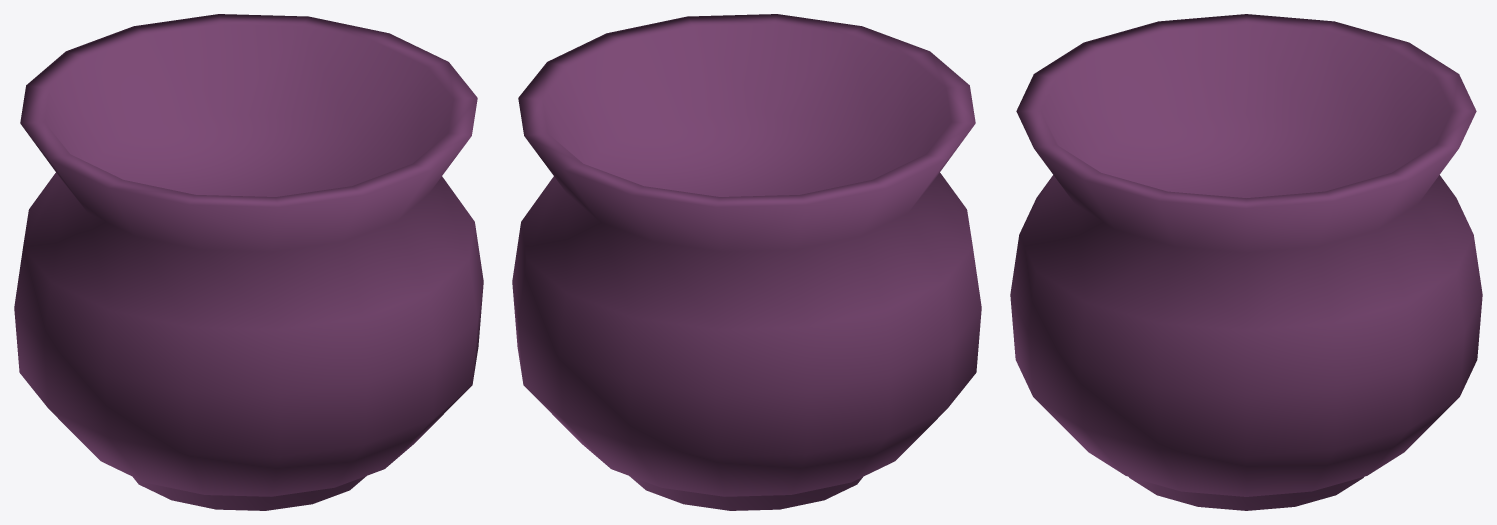
Rendered from tool9.fbx.
The picture shows the model from 3 angles, left to right: view 1: azimuth 30°, elevation 25°; view 2: azimuth 150°, elevation 25°; view 3: azimuth 270°, elevation 25°; orthographic projection.
Parts seen in each view (by area): view 1: Vase_05_Circle.004; view 2: Vase_05_Circle.004; view 3: Vase_05_Circle.004.
Part boxes in pixels (bbox=[...]): Vase_05_Circle.004: bbox=[14, 14, 483, 510]; Vase_05_Circle.004: bbox=[512, 14, 981, 510]; Vase_05_Circle.004: bbox=[1010, 14, 1482, 510].
Bounding box in the file's own units: 261 × 211 × 261.
